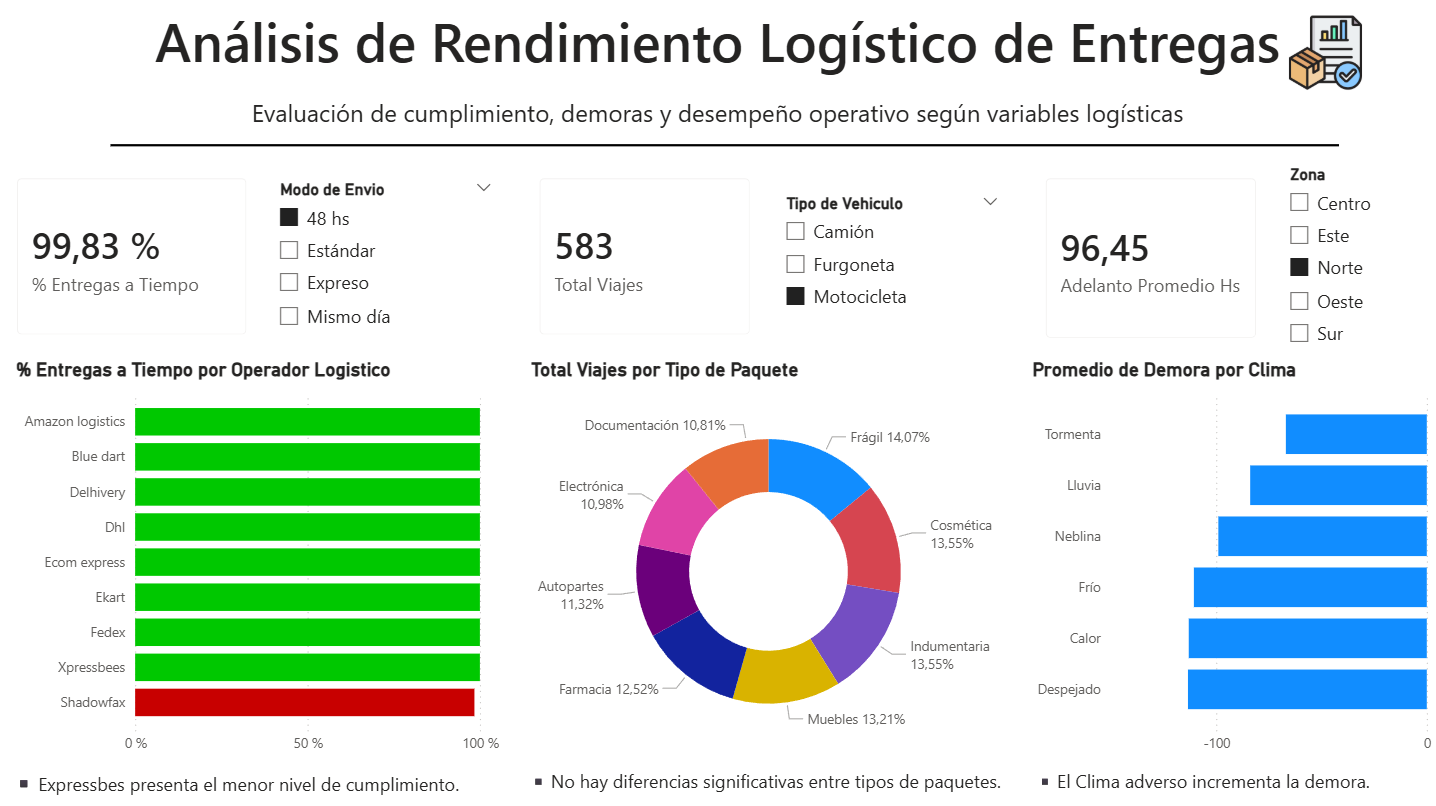

This screenshot's page, from the dashboard's own definition file:
{"tool":"powerbi","page":{"name":"Página 1","canvas":[1280,720],"ordinal":0},"visuals":[{"type":"cardVisual","fields":{"Data":["Medidas.Total Viajes"]},"box":[464.8,143.7,221.1,173.2],"z":0},{"type":"cardVisual","fields":{"Data":["Medidas.% Entregas a Tiempo"]},"box":[0,143.7,238,173.2],"z":1000},{"type":"cardVisual","fields":{"Data":["Medidas.Adelanto Promedio"]},"box":[914.1,143.7,221.1,176.1],"z":2000},{"type":"clusteredBarChart","title":"% Entregas a Tiempo por Operador Logistico","fields":{"Category":["Logistics_Final_Project.Operador_Logistico"],"Y":["Medidas.% Entregas a Tiempo"]},"box":[11.3,319.7,439.4,360.6],"z":3000},{"type":"barChart","title":"Promedio de Demora por Clima","fields":{"Category":["Logistics_Final_Project.Clima"],"Y":["Medidas.Promedio Demora"]},"box":[914.1,319.7,364.8,360.6],"z":4000},{"type":"donutChart","title":"Total Viajes por Tipo de Paquete","fields":{"Category":["Logistics_Final_Project.Tipo_Paquete"],"Y":["Medidas.Total Viajes"]},"box":[469,319.7,432.4,360.6],"z":5000},{"type":"slicer","fields":{"Values":["Logistics_Final_Project.Tipo_Vehiculo"]},"box":[687.8,168.9,213.3,125.6],"z":6000},{"type":"slicer","fields":{"Values":["Logistics_Final_Project.Modo_Envio"]},"box":[238,156.3,212.7,150.7],"z":7000},{"type":"slicer","fields":{"Values":["Logistics_Final_Project.Zona"]},"box":[1135.2,143.7,145.1,176.1],"z":8000},{"type":"textbox","box":[0,0,1279.2,81.8],"z":9000},{"type":"textbox","box":[0,81.8,1279.2,45.5],"z":10000},{"type":"image","box":[1125.4,14.1,108.5,67.6],"z":11000},{"type":"shape","box":[100,105.2,1092.2,50.6],"z":12000},{"type":"textbox","box":[0,680.3,450.7,39.4],"z":13000},{"type":"textbox","box":[464.8,680.3,435.2,39.4],"z":14000},{"type":"textbox","box":[914.1,680.3,364.8,39.4],"z":15000}]}

Visuals, with their boxes in screenshot pixels (x1, y1, x2, y2), scaled from the page's 1280x720 canvas onto the 1436x806 screenshot:
cardVisual - Medidas.Total Viajes: region(521, 161, 769, 355)
cardVisual - Medidas.% Entregas a Tiempo: region(0, 161, 267, 355)
cardVisual - Medidas.Adelanto Promedio: region(1026, 161, 1274, 358)
"% Entregas a Tiempo por Operador Logistico" clusteredBarChart: region(13, 358, 506, 762)
"Promedio de Demora por Clima" barChart: region(1026, 358, 1435, 762)
"Total Viajes por Tipo de Paquete" donutChart: region(526, 358, 1011, 762)
slicer - Logistics_Final_Project.Tipo_Vehiculo: region(772, 189, 1011, 330)
slicer - Logistics_Final_Project.Modo_Envio: region(267, 175, 506, 344)
slicer - Logistics_Final_Project.Zona: region(1274, 161, 1435, 358)
textbox: region(0, 0, 1435, 92)
textbox: region(0, 92, 1435, 143)
image: region(1263, 16, 1384, 91)
shape: region(112, 118, 1337, 174)
textbox: region(0, 762, 506, 805)
textbox: region(521, 762, 1010, 805)
textbox: region(1026, 762, 1435, 805)
